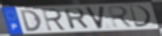D: (128, 4, 154, 28), (19, 9, 44, 33)
R: (106, 5, 135, 29), (41, 8, 68, 32), (63, 8, 91, 30)
V: (84, 6, 107, 31)
